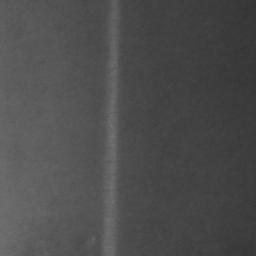Bright scratch: (101, 0, 122, 256)
